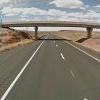Bridge: (4, 12, 97, 39)
